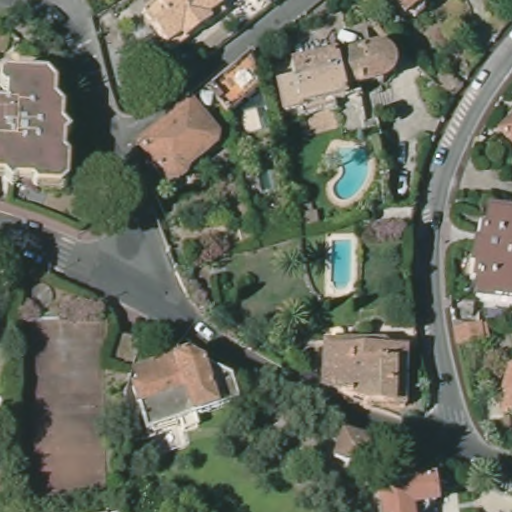pool: (330, 145, 372, 199), (327, 235, 359, 293)
